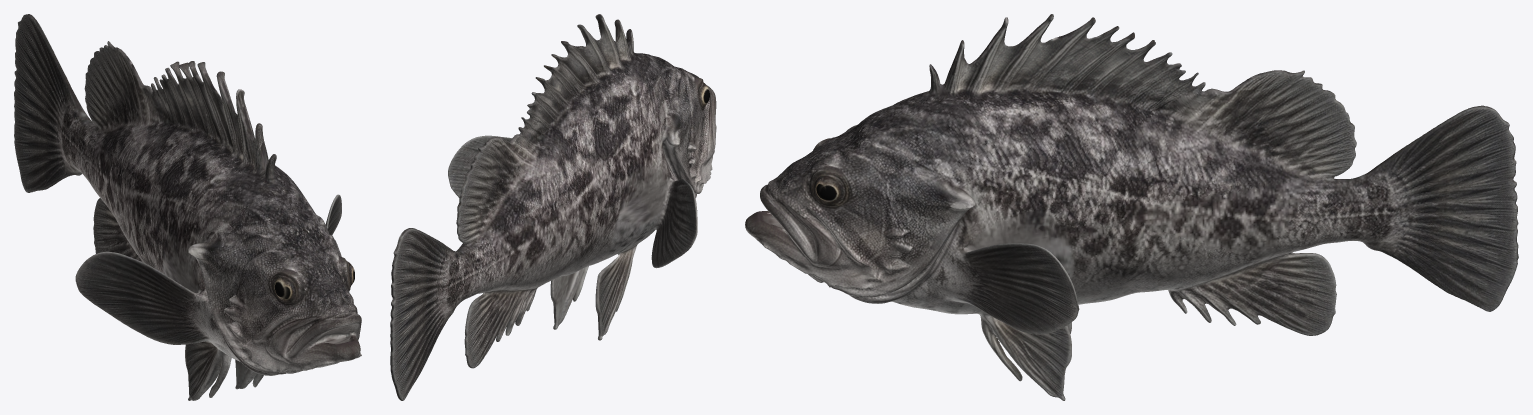
The model's file is kurosoi-5d8aaba49bf9.glb.
3 renders of one model, left to right at view 1: azimuth 30°, elevation 25°; view 2: azimuth 150°, elevation 25°; view 3: azimuth 270°, elevation 25°, orthographic. The views are drawn at different scales.
Bounding box in the file's own units: 0.8611 × 1.01 × 1.9.
Materials: 1 (1 with a texture image).
